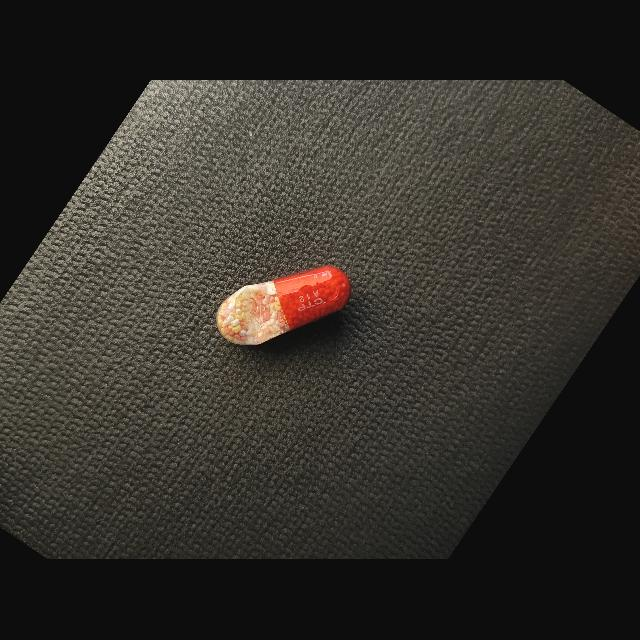Defective Capsule: (217, 267, 350, 345)
